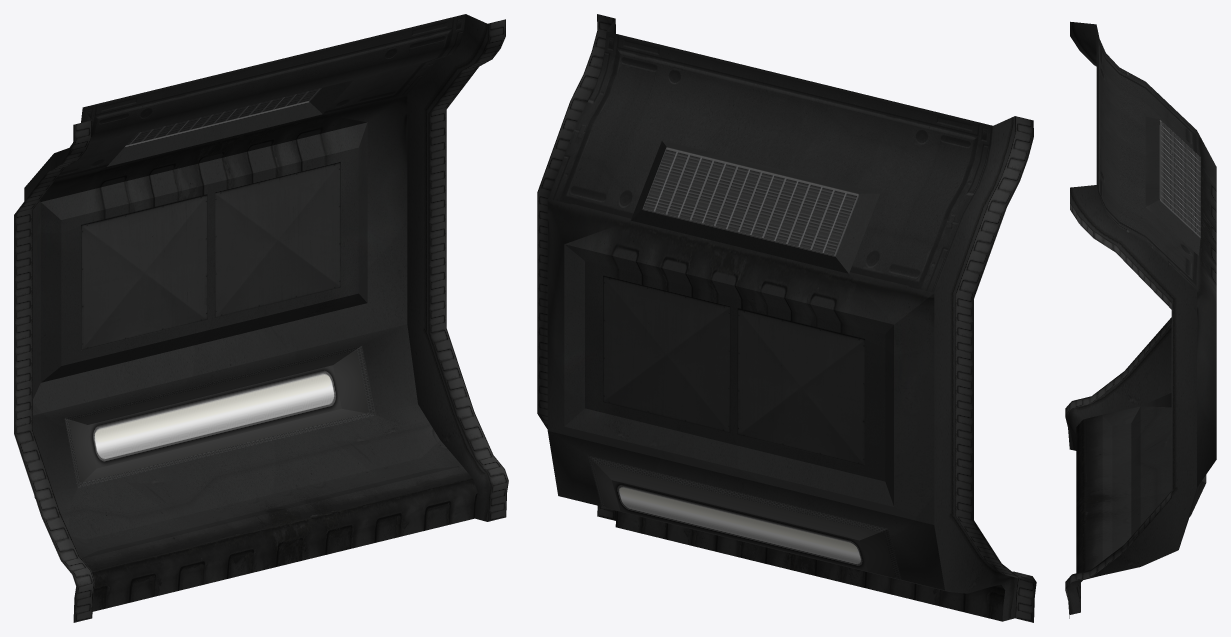
File: Wall.fbx
3 views of the same model, side by side, from view 1: azimuth 30°, elevation 25°; view 2: azimuth 150°, elevation 25°; view 3: azimuth 270°, elevation 25° (orthographic). The views are drawn at different scales.
Visible parts, largest first — view 1: WallNormal; view 2: WallNormal; view 3: WallNormal.
Boxes of the visible parts, x1,y1,x2,y2 form: WallNormal: (14,14,508,622); WallNormal: (537,14,1036,622); WallNormal: (1065,21,1216,618).
Size of the model in its own units: 4 by 4.4 by 1.41.
